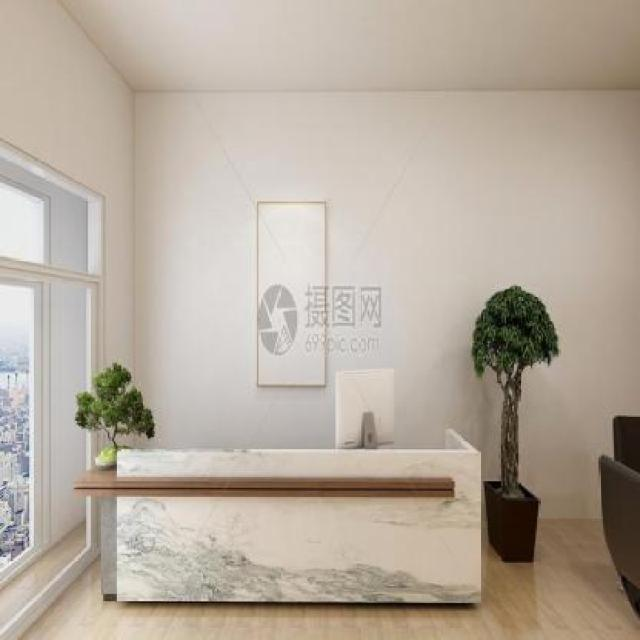frontdesk: (64, 420, 486, 618)
